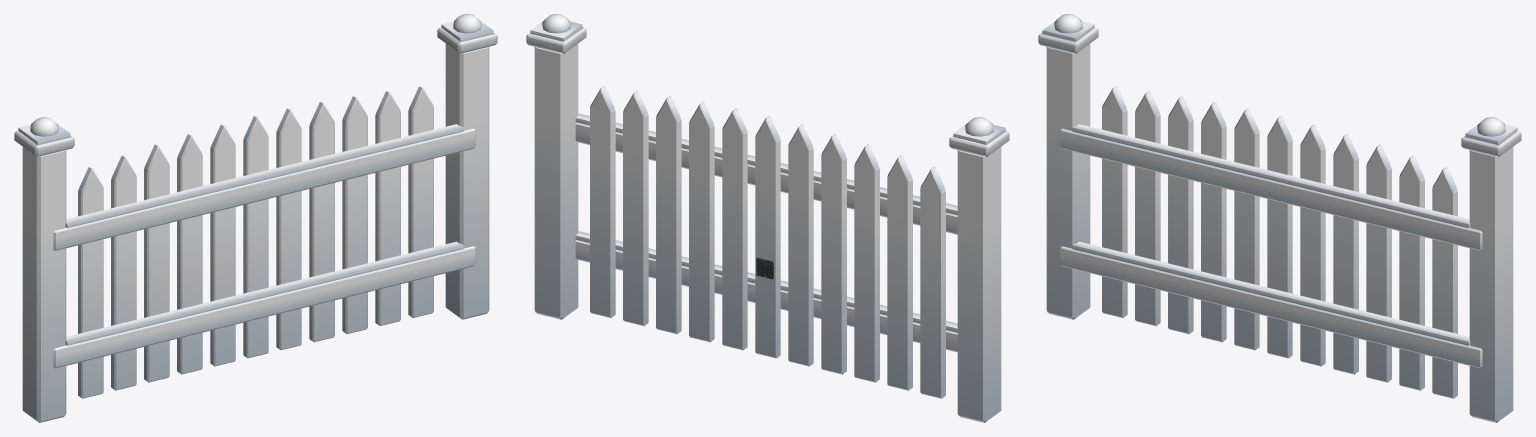
File: ck_garden_fence.fbx
3 views of the same model, side by side, from view 1: azimuth 30°, elevation 25°; view 2: azimuth 150°, elevation 25°; view 3: azimuth 330°, elevation 25° (orthographic).
Visible parts, largest first — view 1: ck_garden_fence; view 2: ck_garden_fence; view 3: ck_garden_fence.
Boxes of the visible parts, x1,y1,x2,y2 form: ck_garden_fence: [14, 14, 497, 422]; ck_garden_fence: [526, 14, 1009, 422]; ck_garden_fence: [1038, 14, 1521, 422].
Bounding box in the file's own units: 700 × 428 × 60.
